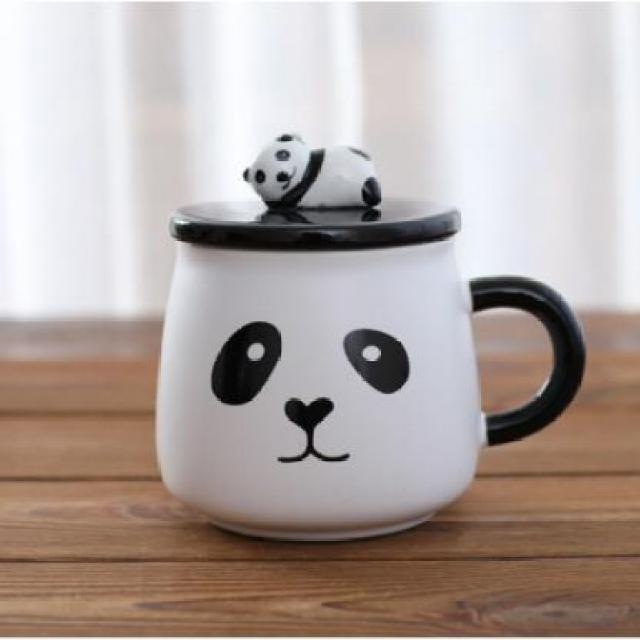taza: (153, 202, 586, 540)
